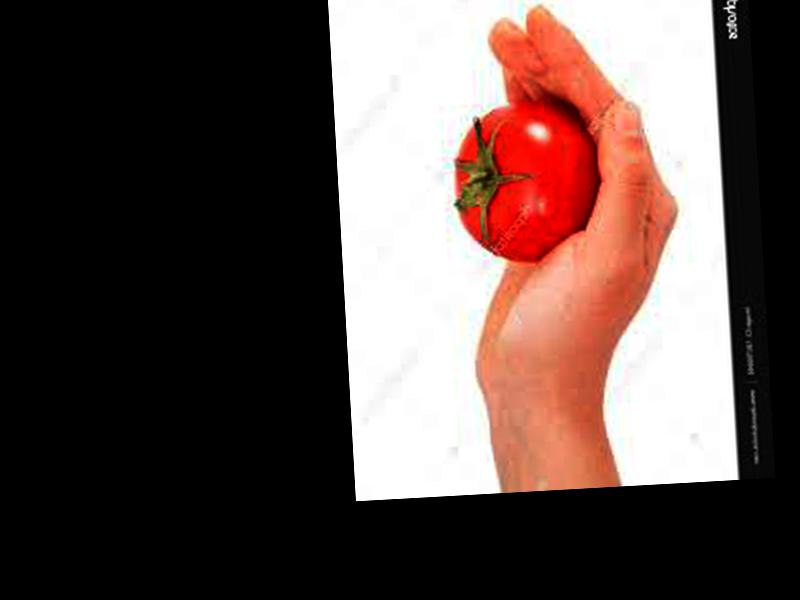Tomato: (452, 102, 601, 267)
